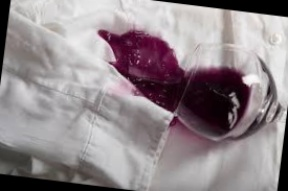wine: (99, 36, 234, 122), (95, 22, 180, 86)
